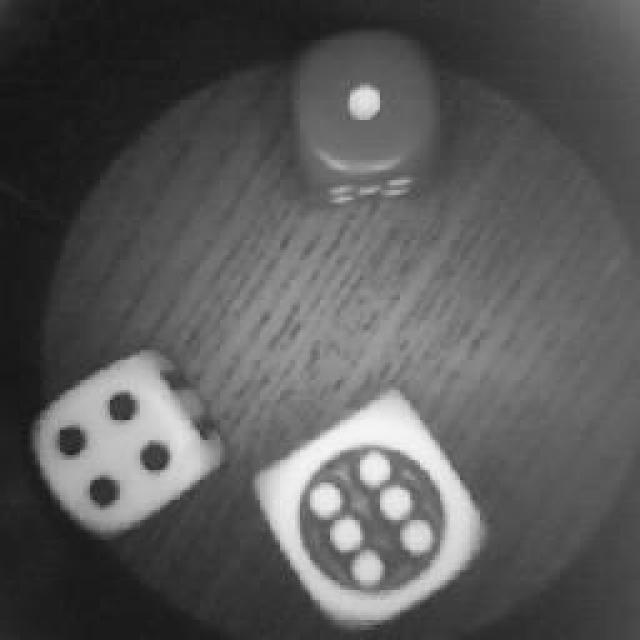dice_1: (283, 28, 445, 200)
dice_4: (38, 352, 208, 532)
dice_6: (258, 387, 480, 625)
